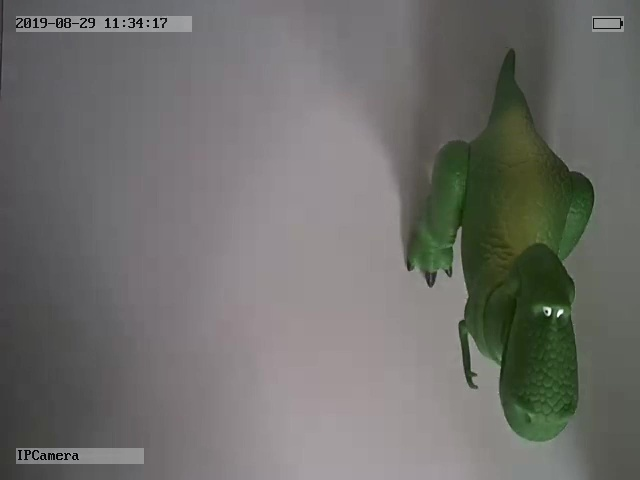rex: (404, 47, 593, 443)
